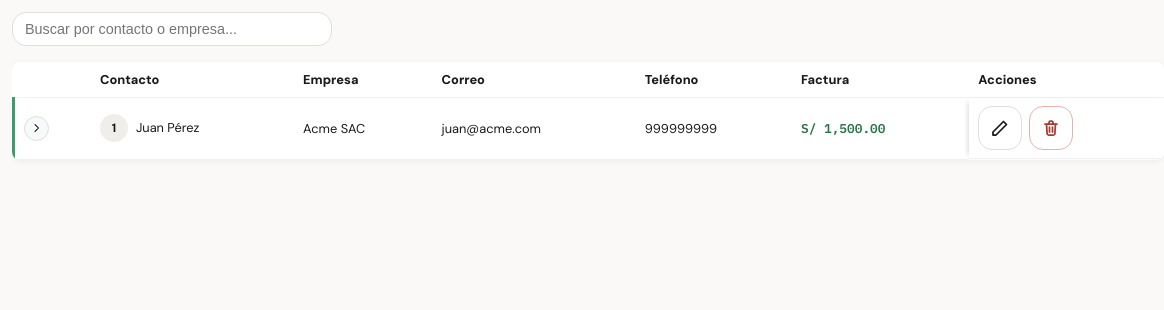
LeadsTable › asigna la clase --convertido cuando el lead tiene conversion_at
Click the button with class "leads-table__boton-expandir". click: (37, 128)
box: top-left (24, 116), bottom-right (49, 141)
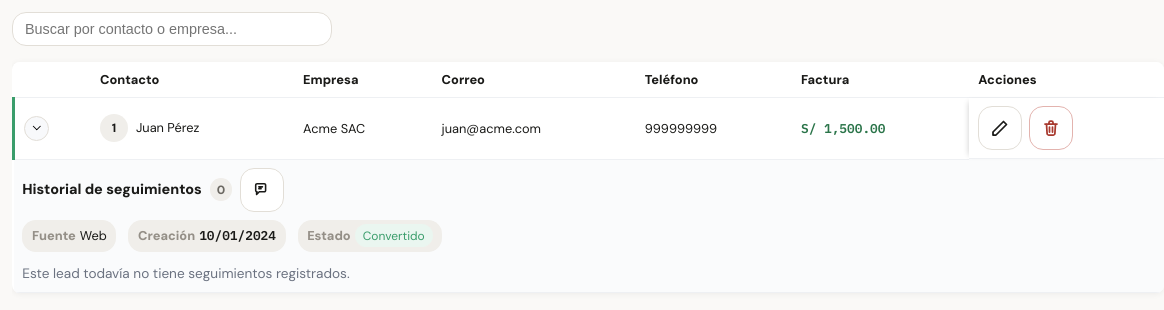
Result: the text "convertido" is shown at top-left (355, 224), bottom-right (433, 247)
